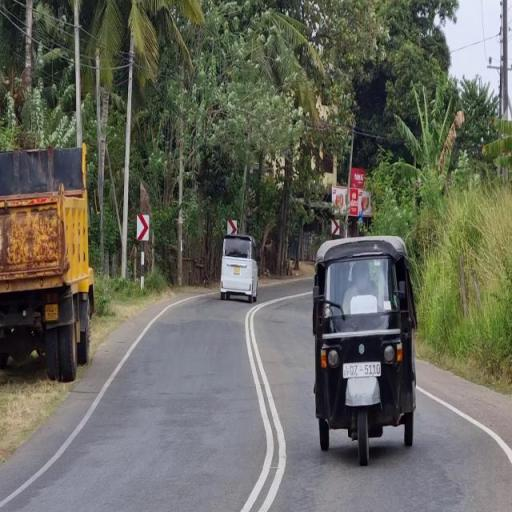double_white_line: (240, 296, 302, 510)
